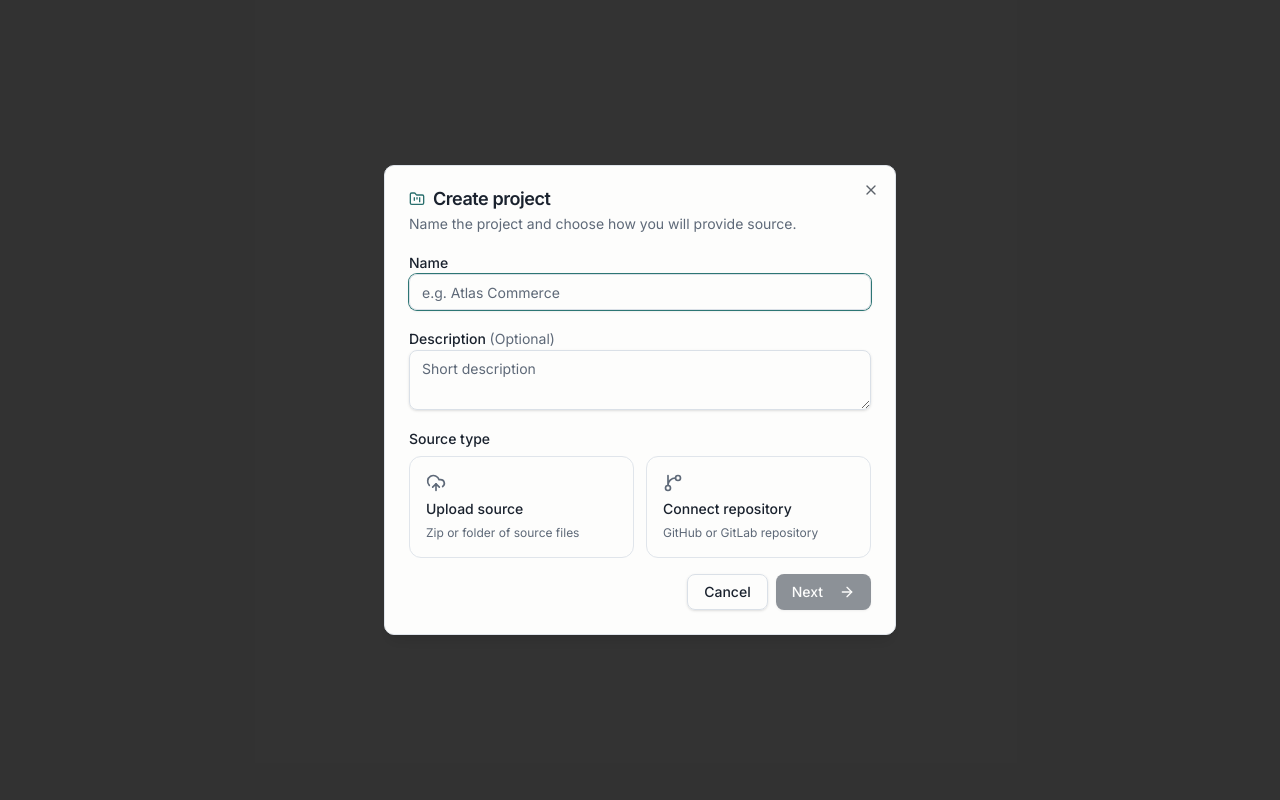
CreateProjectDialog › renders PROJECT_NAME_TAKEN as role=alert
Type "Dup" into the field labelled "Name" at (640, 292), box 409,274 -> 871,310
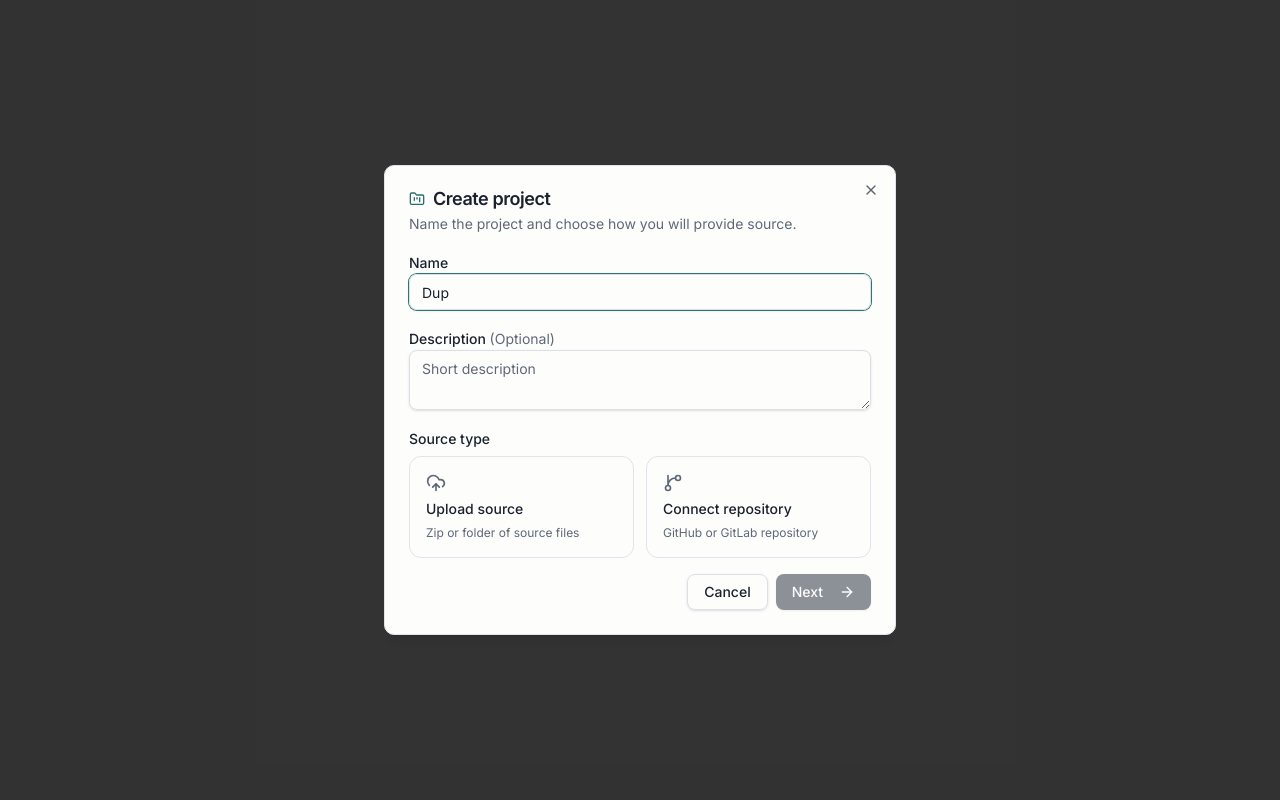
Click the text "Upload source" at (475, 509), box 426,499 -> 523,519
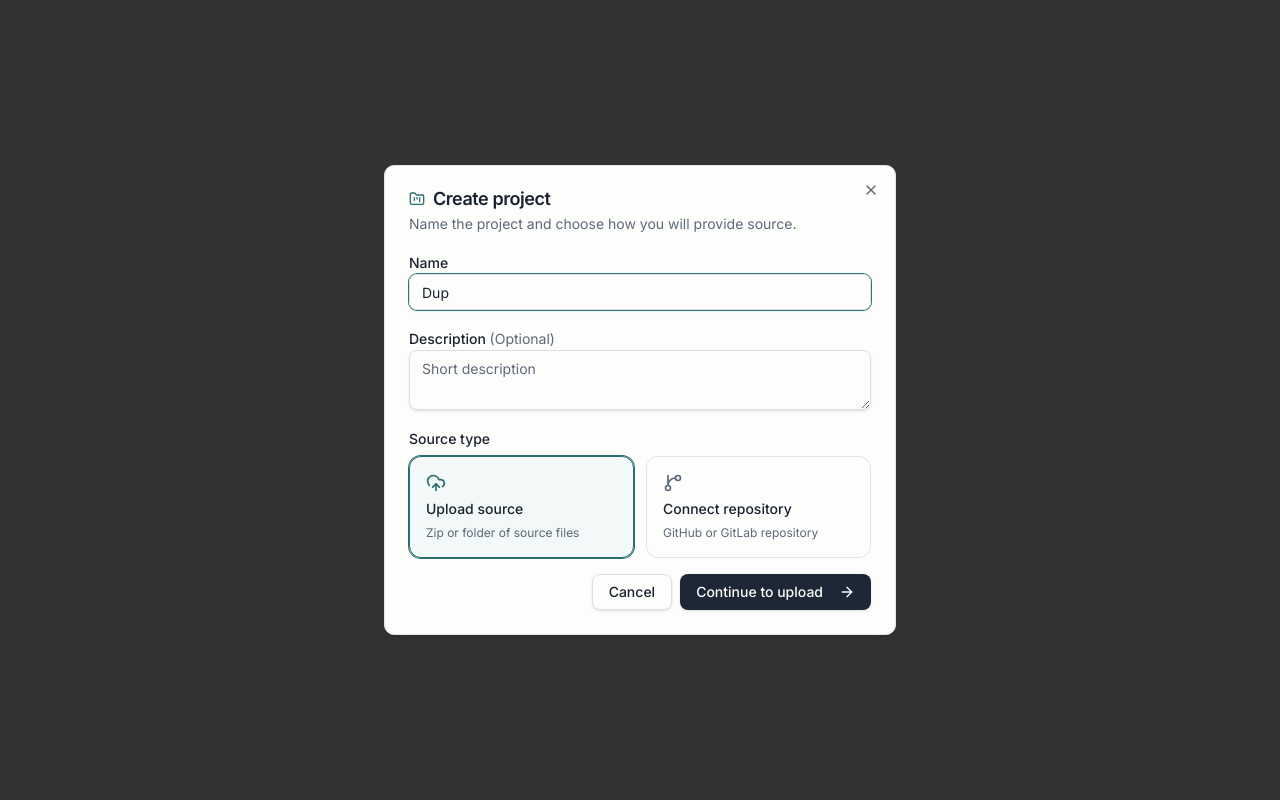
Click the button "Continue to upload" at (776, 592), box 680,574 -> 871,610
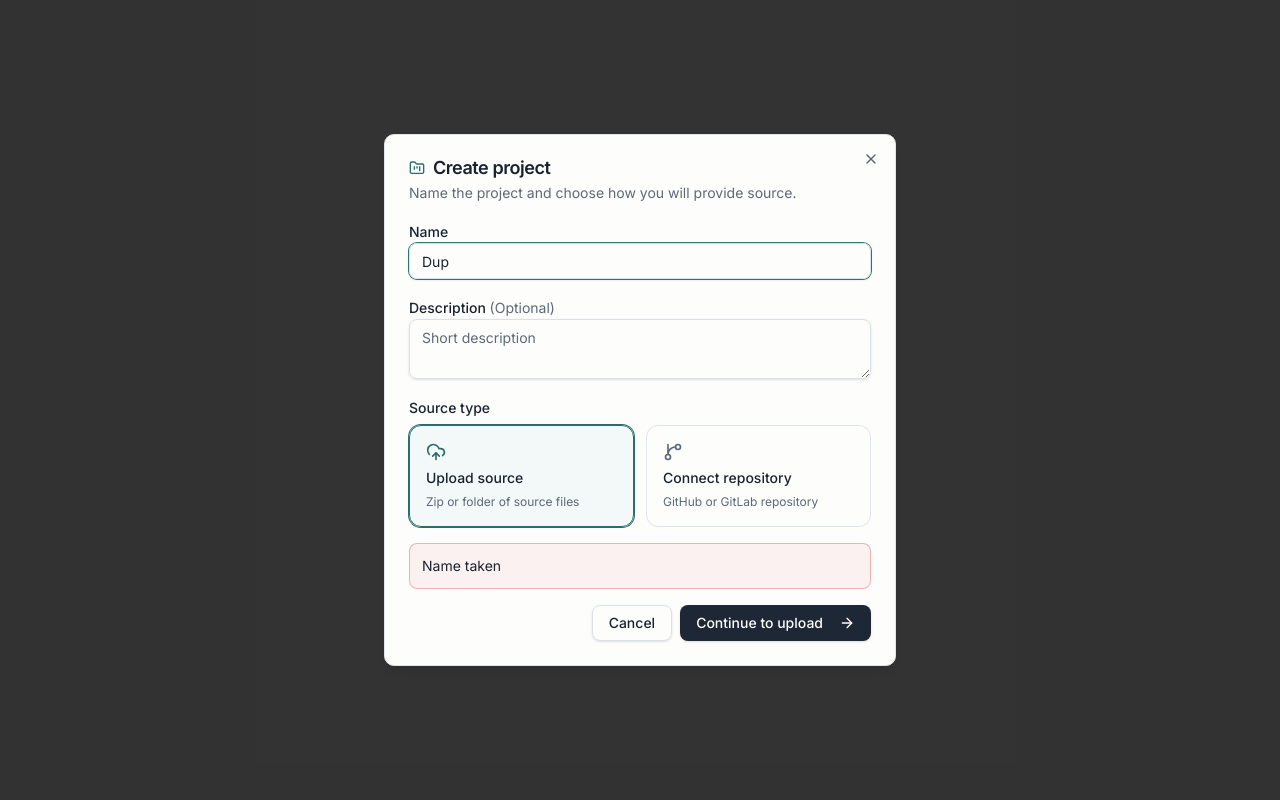
Expected: the message reads "Name taken", 422,557 -> 501,574
